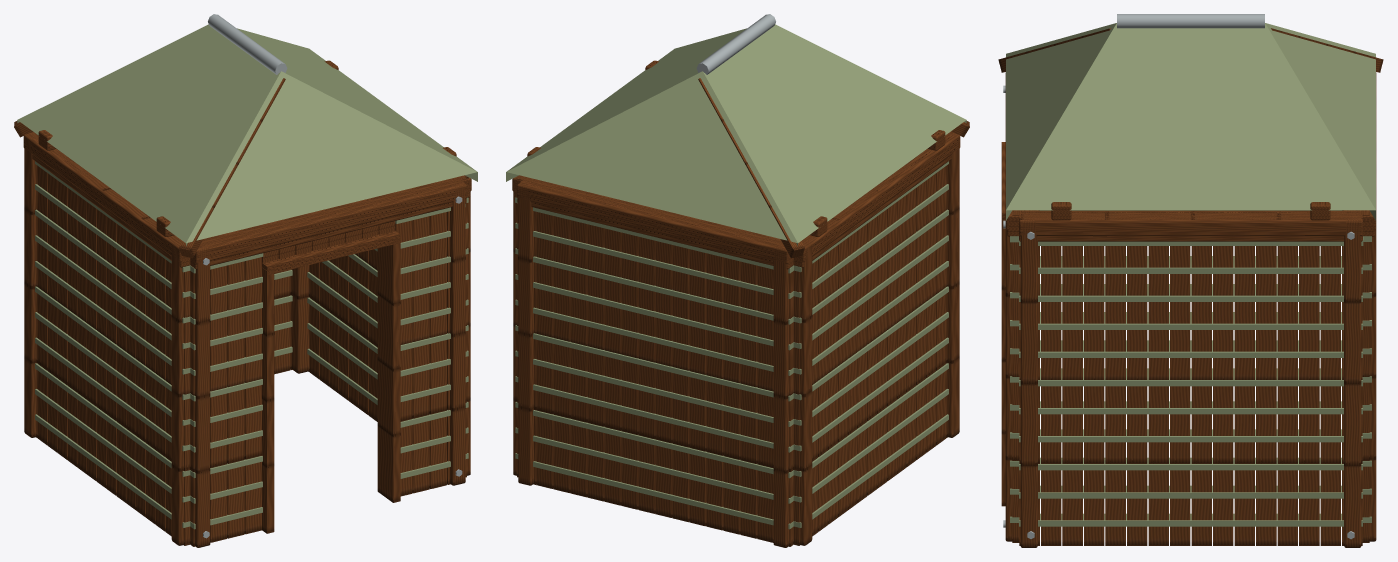
The model's file is prehistoric-survivor-settlement-raised-granary-shell-0d0ce82c__23202.glb.
The picture shows the model from 3 angles, left to right: view 1: azimuth 30°, elevation 25°; view 2: azimuth 150°, elevation 25°; view 3: azimuth 270°, elevation 25°; orthographic projection. The views are drawn at different scales.
Parts seen in each view (by area): view 1: raised-granary-shell; view 2: raised-granary-shell; view 3: raised-granary-shell.
Boxes of the visible parts, x1=… form: raised-granary-shell: x1=14, y1=14, x2=477, y2=547; raised-granary-shell: x1=506, y1=14, x2=969, y2=547; raised-granary-shell: x1=998, y1=14, x2=1383, y2=547.
Bounding box in the file's own units: 2.2 × 2.92 × 2.24.
Materials: 3 (1 with a texture image).
